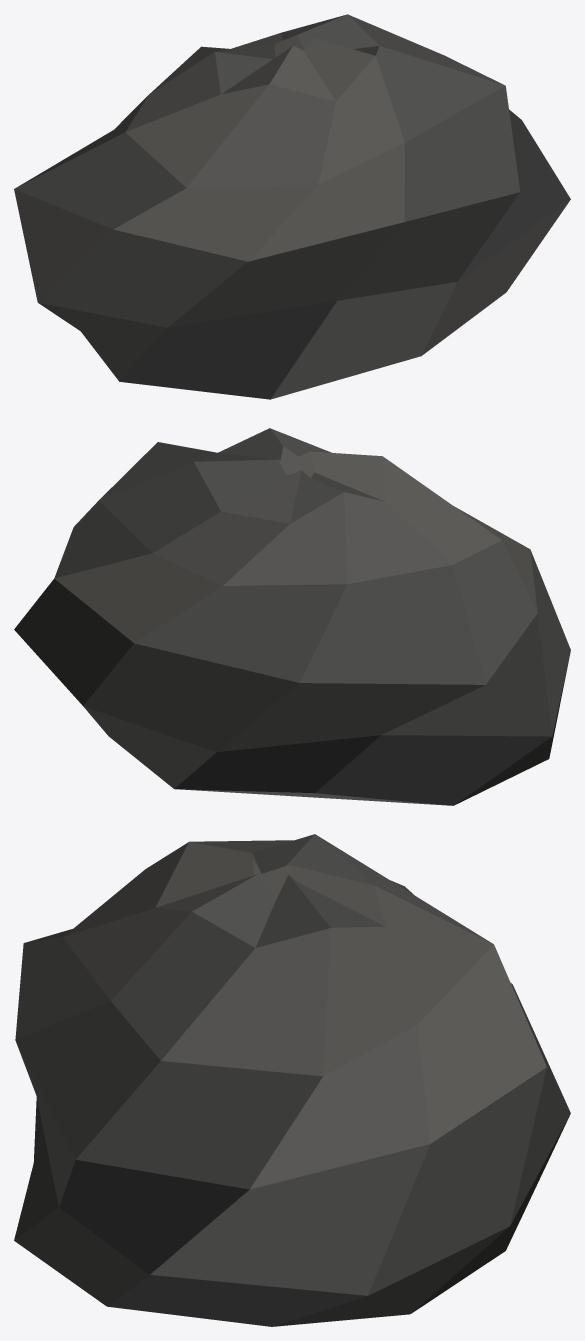
The model's file is boulder_a.glb.
The picture shows the model from 3 angles, top to bottom: view 1: azimuth 30°, elevation 25°; view 2: azimuth 150°, elevation 25°; view 3: azimuth 270°, elevation 25°; orthographic projection. The views are drawn at different scales.
Parts seen in each view (by area): view 1: boulder_a; view 2: boulder_a; view 3: boulder_a.
Part boxes in pixels (x1,y1,x2,y2): boulder_a: (14,14,570,399); boulder_a: (14,428,570,805); boulder_a: (14,834,570,1326).
Size of the model in its own units: 2.77 by 1.48 by 2.
1 material, 1 textured.
